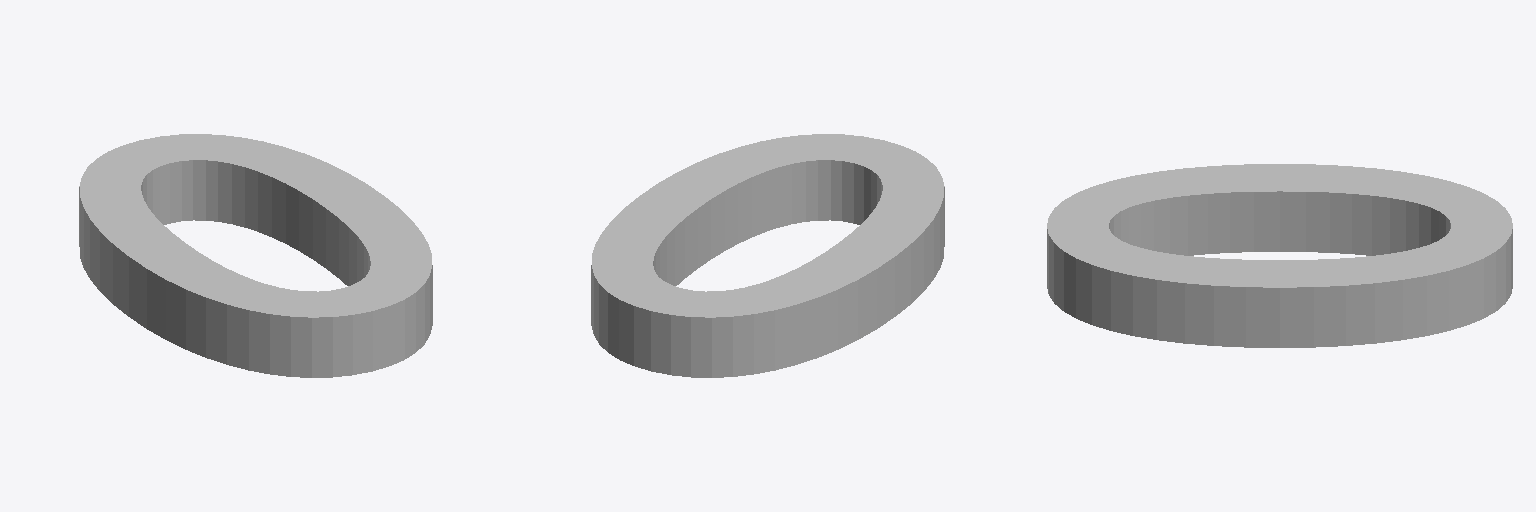
The model's file is score_0.obj.
3 renders of one model, left to right at view 1: azimuth 30°, elevation 25°; view 2: azimuth 150°, elevation 25°; view 3: azimuth 270°, elevation 25°, orthographic.
Parts seen in each view (by area): view 1: 0_Text.002; view 2: 0_Text.002; view 3: 0_Text.002.
Boxes of the visible parts, <box> form: 0_Text.002: <box>79,134,432,377</box>; 0_Text.002: <box>591,134,944,377</box>; 0_Text.002: <box>1047,164,1512,347</box>.
Size of the model in its own units: 0.44 by 0.1 by 0.7.